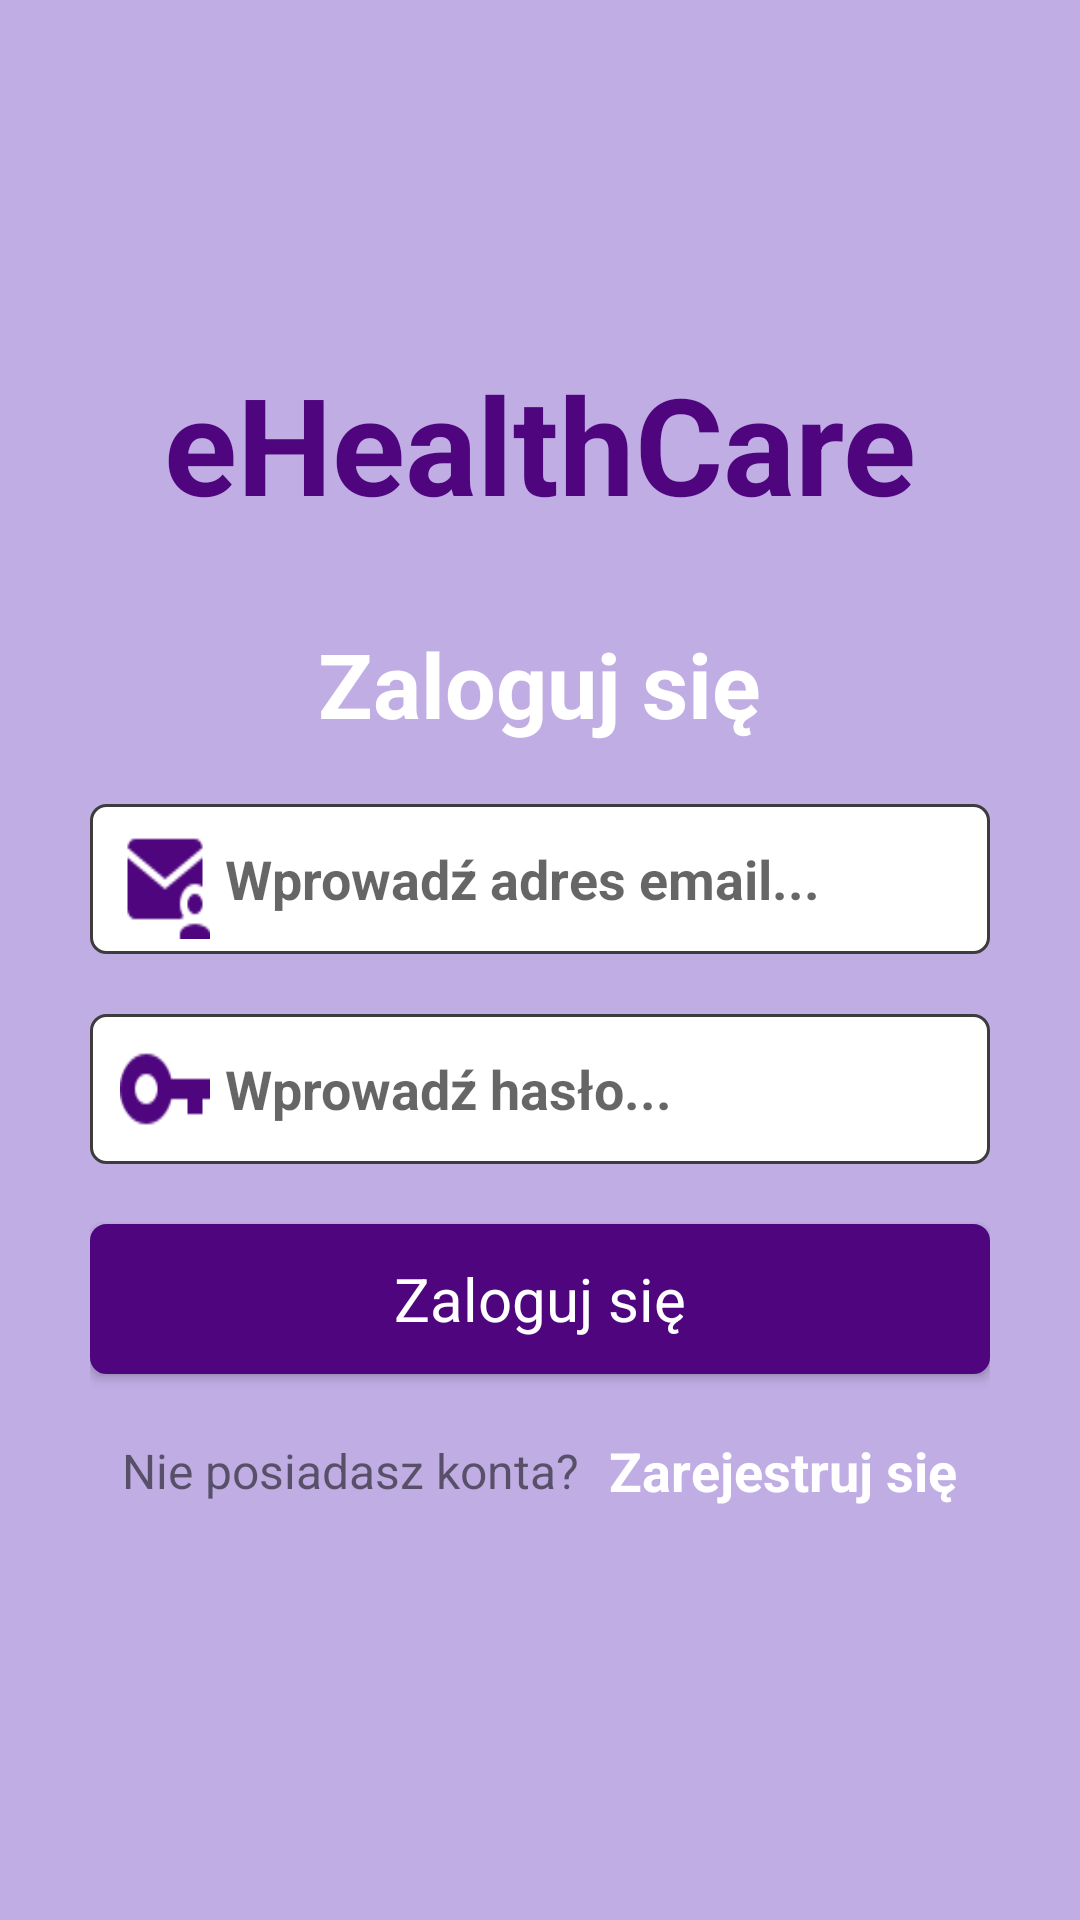

Screen size 1080px×1920px. Icon name, then its center in pixels as point (x, y):
password: point (165, 1089)
